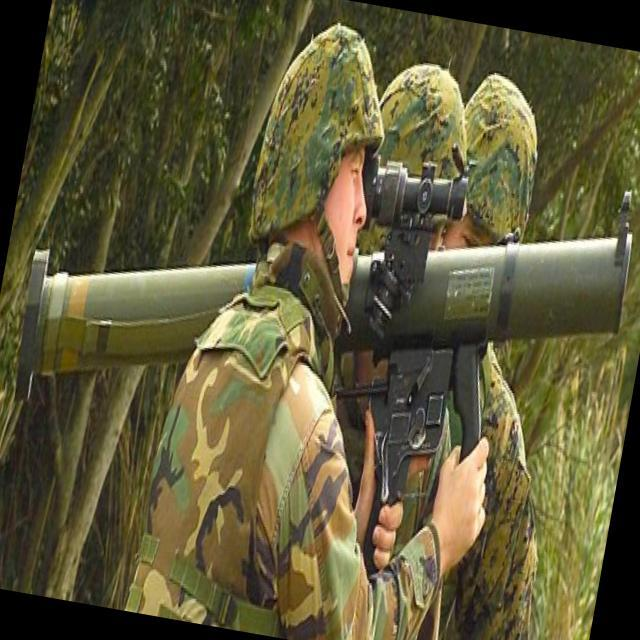rocket: (6, 80, 640, 497)
